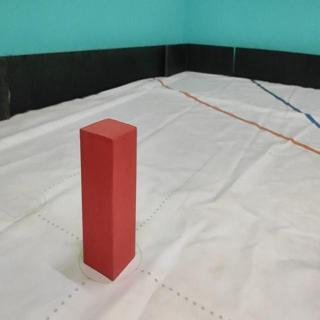redbox: (80, 117, 137, 283)
